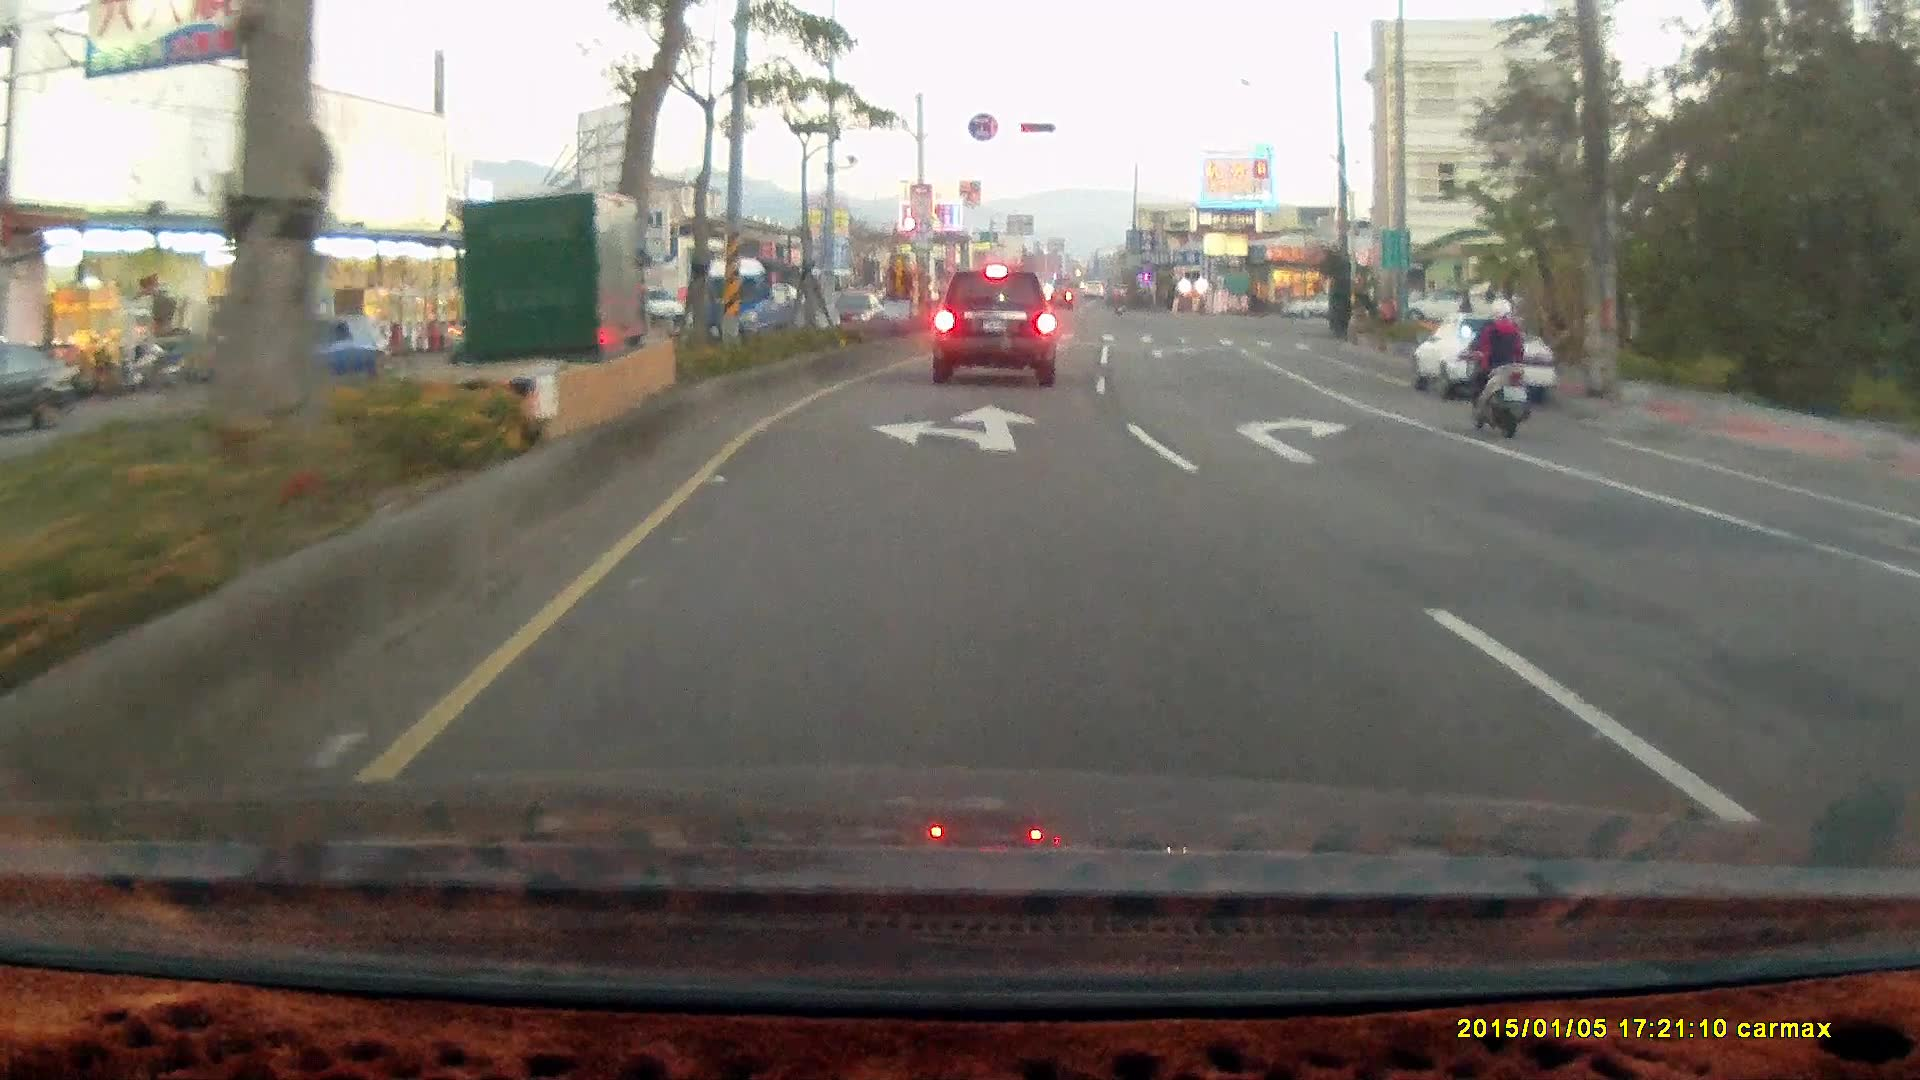rider: (1457, 294, 1535, 436)
vehicle: (931, 266, 1058, 386), (1409, 310, 1557, 401), (1417, 312, 1561, 399), (237, 314, 388, 390), (682, 256, 806, 338), (1896, 493, 1920, 836), (1883, 528, 1920, 690), (1398, 284, 1492, 326), (1282, 289, 1352, 316)
